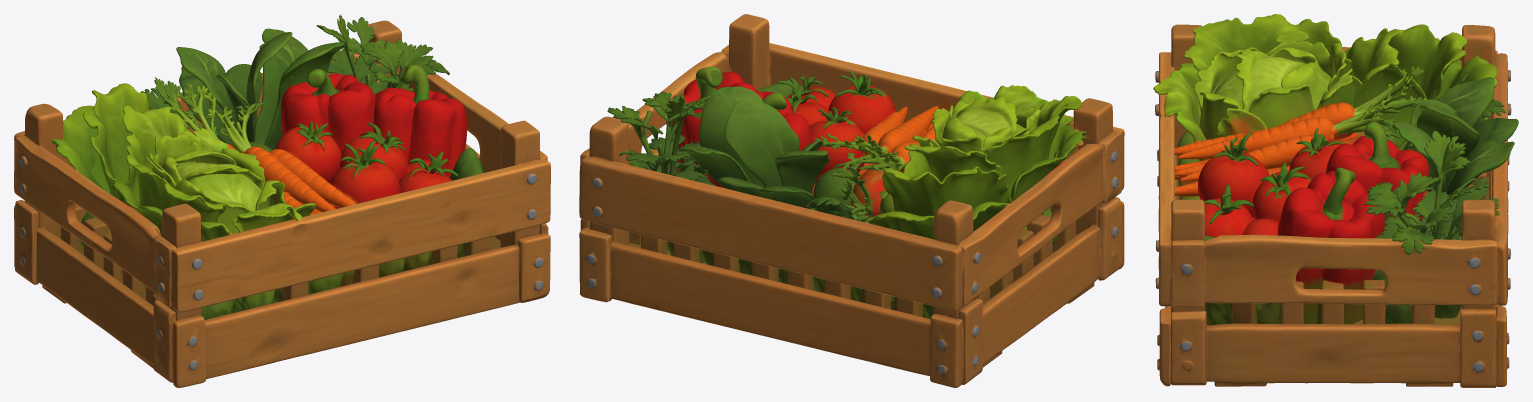
Rendered from VegetableCrate.glb.
3 views of the same model, side by side, from view 1: azimuth 30°, elevation 25°; view 2: azimuth 150°, elevation 25°; view 3: azimuth 270°, elevation 25° (orthographic). The views are drawn at different scales.
Parts seen in each view (by area): view 1: tripo_node_72a9c1eb-6cec-4c6d-bbe6-cb841adacfbd; view 2: tripo_node_72a9c1eb-6cec-4c6d-bbe6-cb841adacfbd; view 3: tripo_node_72a9c1eb-6cec-4c6d-bbe6-cb841adacfbd.
Part boxes in pixels (left/top/right/bottom): tripo_node_72a9c1eb-6cec-4c6d-bbe6-cb841adacfbd: left=14, top=14, right=550, bottom=387; tripo_node_72a9c1eb-6cec-4c6d-bbe6-cb841adacfbd: left=579, top=14, right=1124, bottom=387; tripo_node_72a9c1eb-6cec-4c6d-bbe6-cb841adacfbd: left=1153, top=14, right=1518, bottom=387.
Bounding box in the file's own units: 0.9799 × 0.4745 × 0.7409.
1 material, 1 textured.
